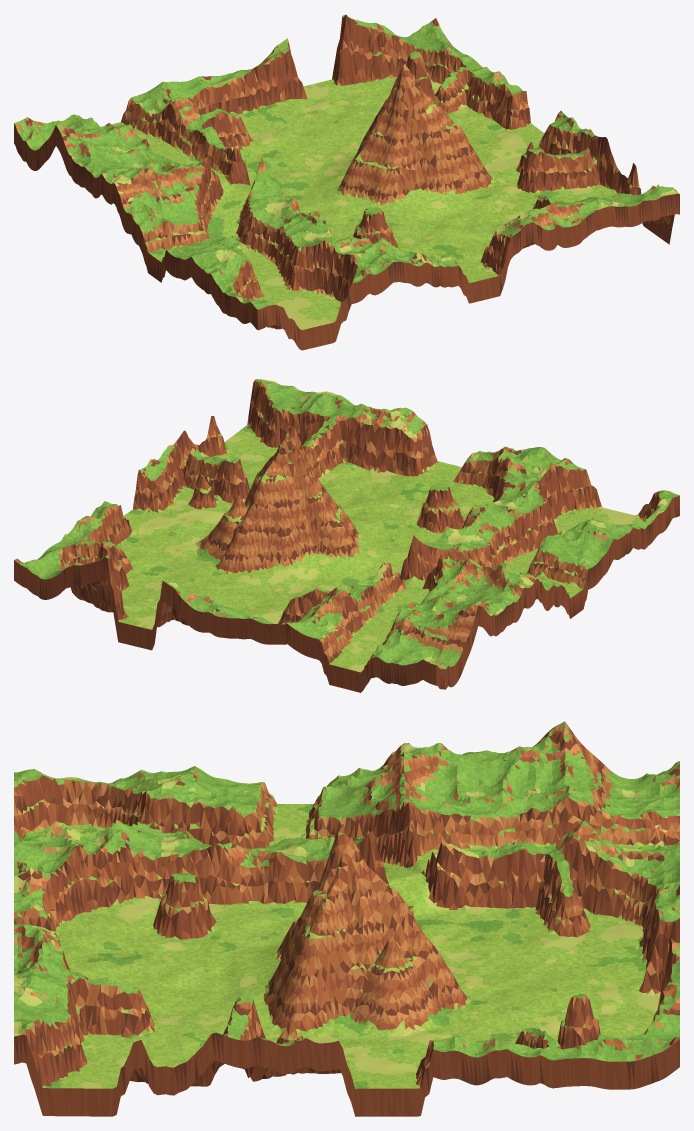
The model's file is SM_Terrain_Play.obj.
The picture shows the model from 3 angles, top to bottom: view 1: azimuth 30°, elevation 25°; view 2: azimuth 150°, elevation 25°; view 3: azimuth 270°, elevation 25°; orthographic projection. The views are drawn at different scales.
Parts seen in each view (by area): view 1: SM_Terrain_Play; view 2: SM_Terrain_Play; view 3: SM_Terrain_Play.
Part boxes in pixels (bbox=[...]): SM_Terrain_Play: bbox=[14, 14, 679, 350]; SM_Terrain_Play: bbox=[14, 379, 679, 692]; SM_Terrain_Play: bbox=[14, 721, 679, 1116].
Bounding box in the file's own units: 1296 × 423 × 1296.
1 material, 1 textured.
